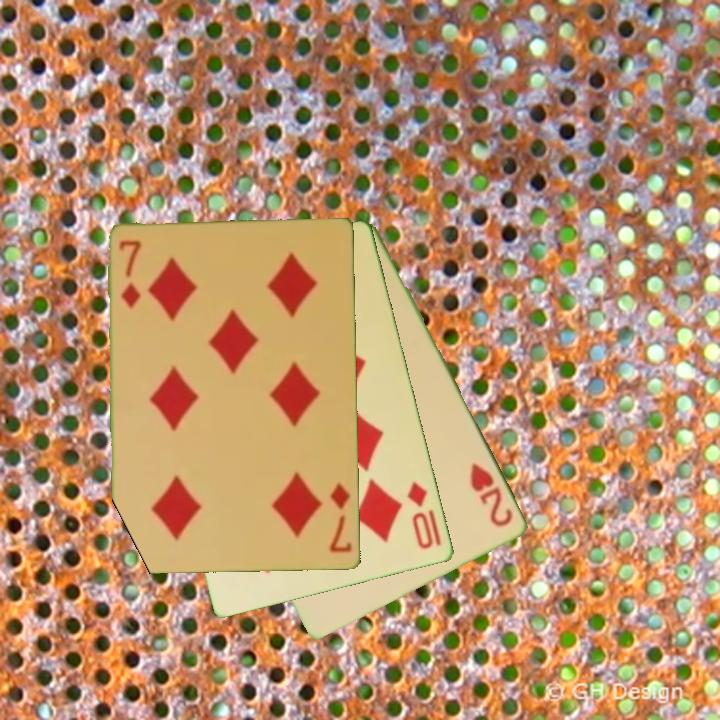10d: (403, 478, 437, 552)
2h: (467, 460, 516, 530)
7d: (115, 238, 145, 312), (327, 480, 355, 556)
